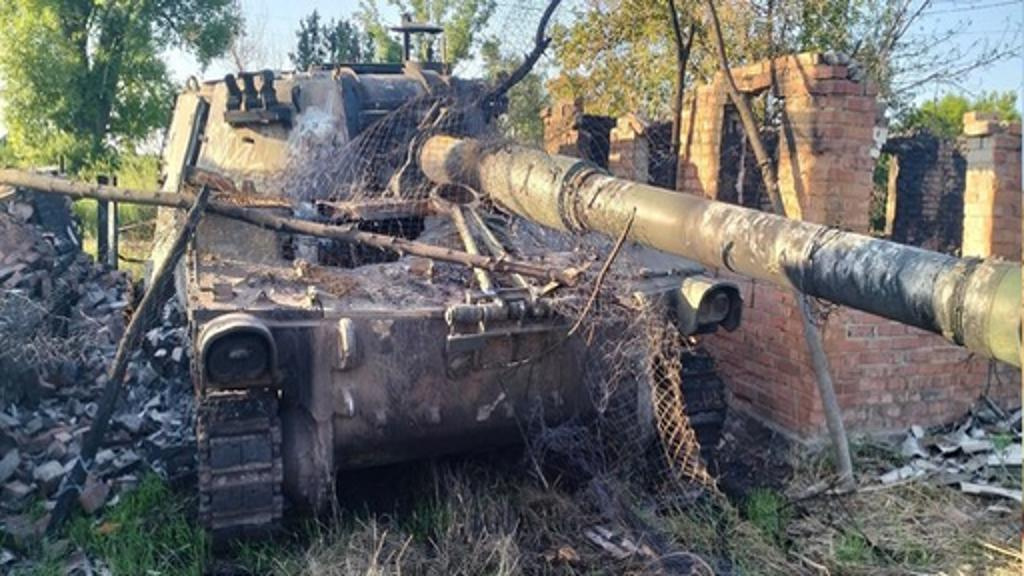ART: (148, 48, 1020, 544)
